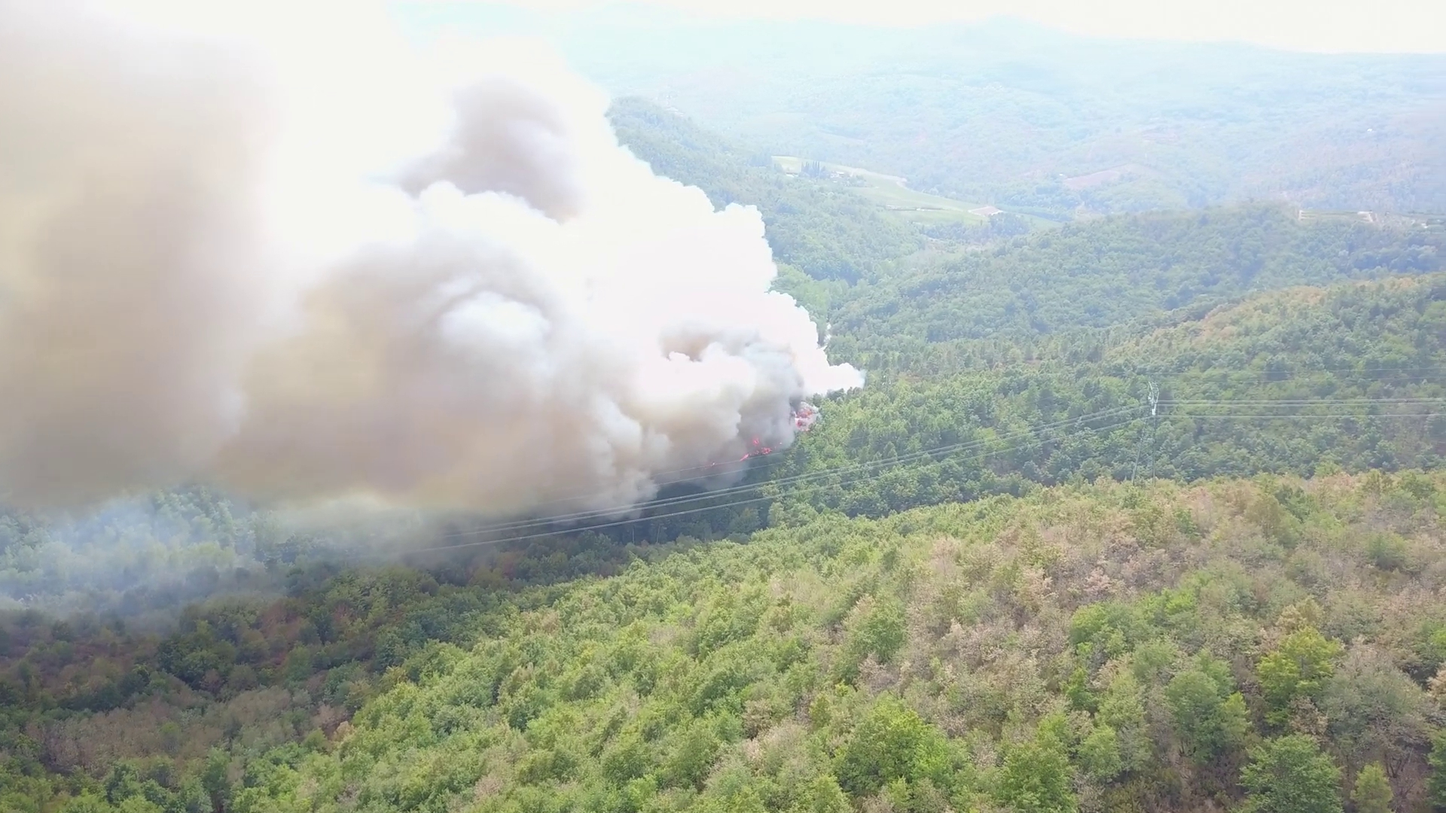forest_fire: (740, 438, 772, 458)
